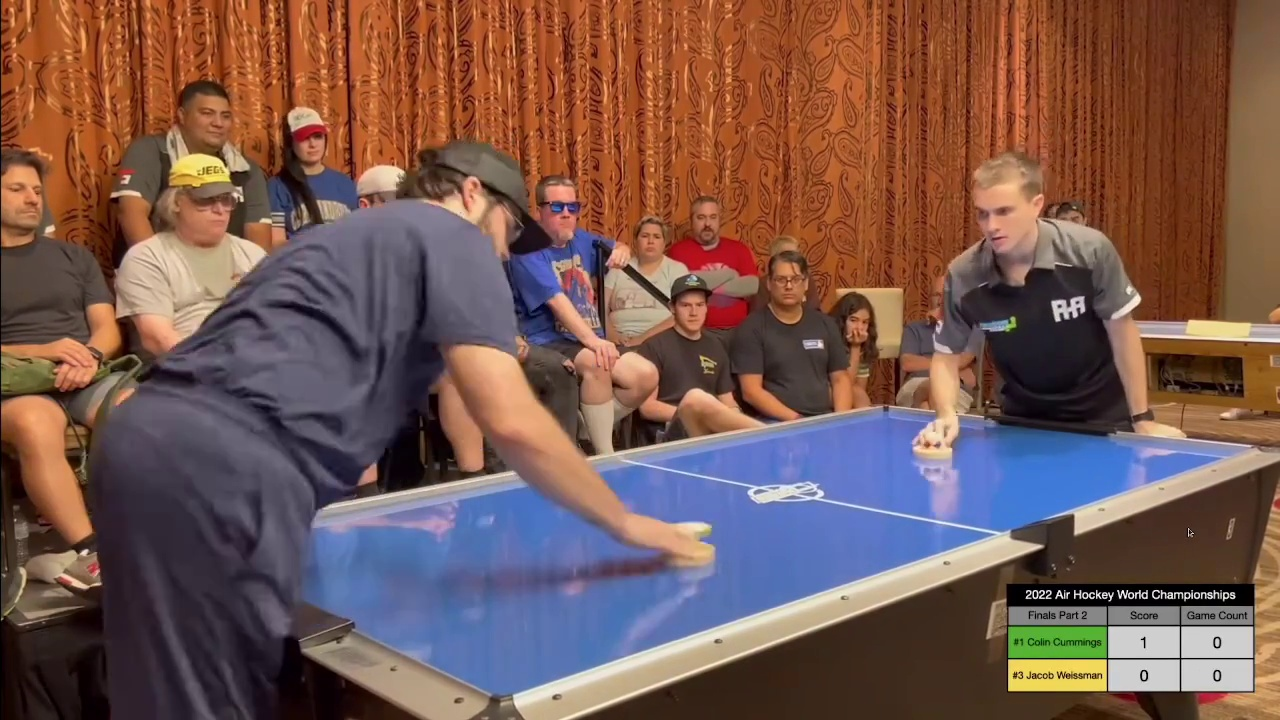player: (906, 424, 953, 459), (664, 536, 717, 566)
puck: (663, 518, 719, 537)
table: (146, 407, 1280, 698)
